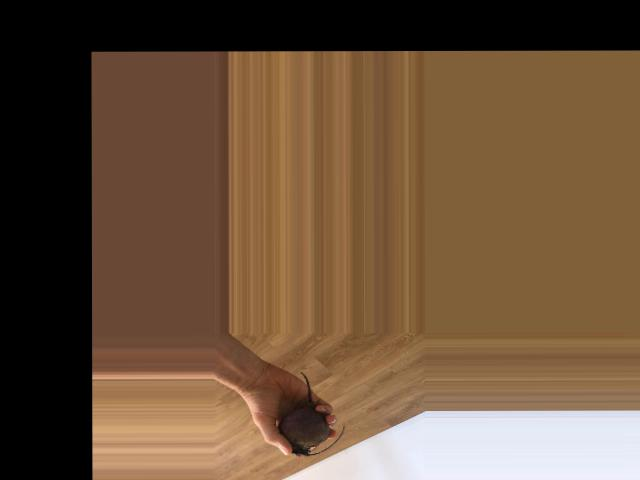beet: (278, 372, 346, 457)
